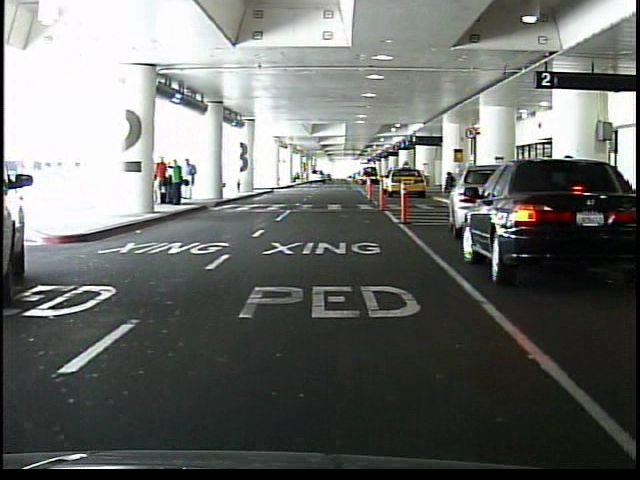person: (157, 153, 170, 206), (169, 159, 183, 206), (183, 158, 197, 201), (441, 172, 455, 194)
